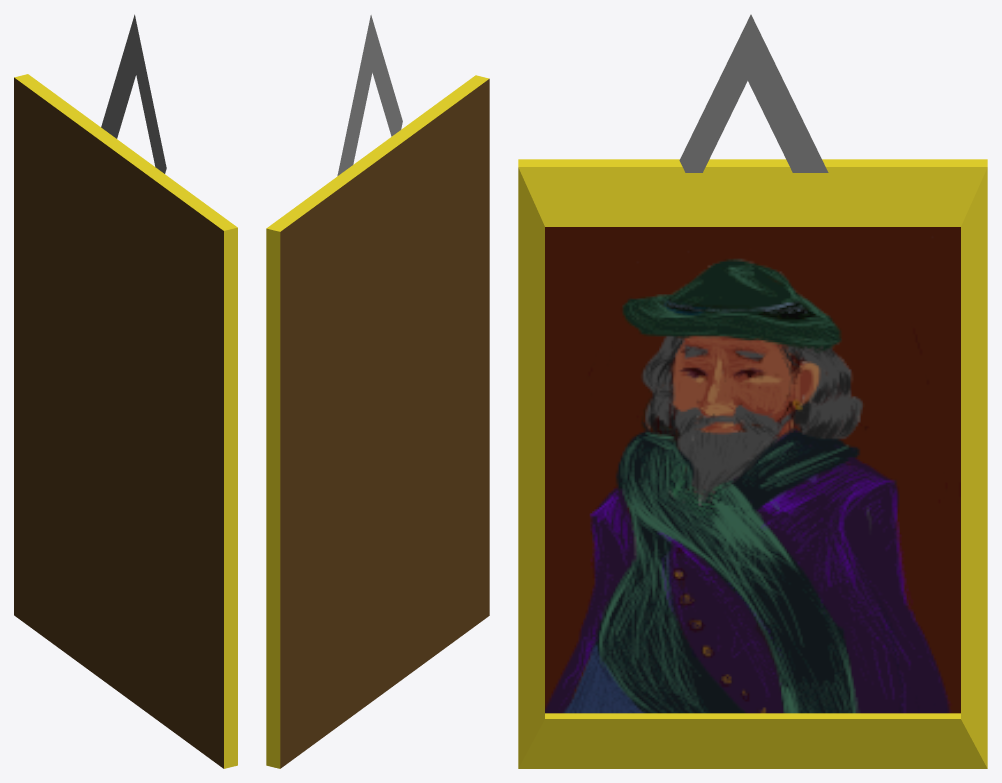
File: paintingCount.glb
3 views of the same model, side by side, from view 1: azimuth 30°, elevation 25°; view 2: azimuth 150°, elevation 25°; view 3: azimuth 270°, elevation 25° (orthographic). The views are drawn at different scales.
Parts seen in each view (by area): view 1: Frame; view 2: Frame; view 3: countPainting, Frame.
Part boxes in pixels (x1,y1,x2,y2): Frame: (14,14,237,768); Frame: (266,15,489,768); countPainting: (545,227,960,713); Frame: (518,14,987,768).
Size of the model in its own units: 0.0581 by 1.63 by 0.9159.
Materials: 2 (2 with a texture image).
